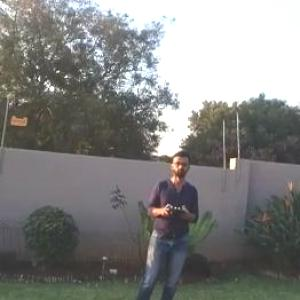follow: (124, 143, 204, 299)
